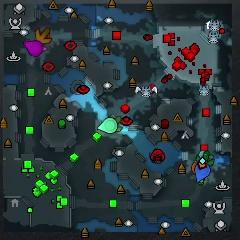p1: (195, 162, 211, 182)
p2: (98, 117, 119, 133)
p3: (23, 41, 45, 58)
p5: (191, 161, 199, 175)
x2: (116, 116, 123, 133)
x3: (197, 150, 204, 157)
x4: (196, 150, 214, 166)
x5: (35, 25, 51, 45)
